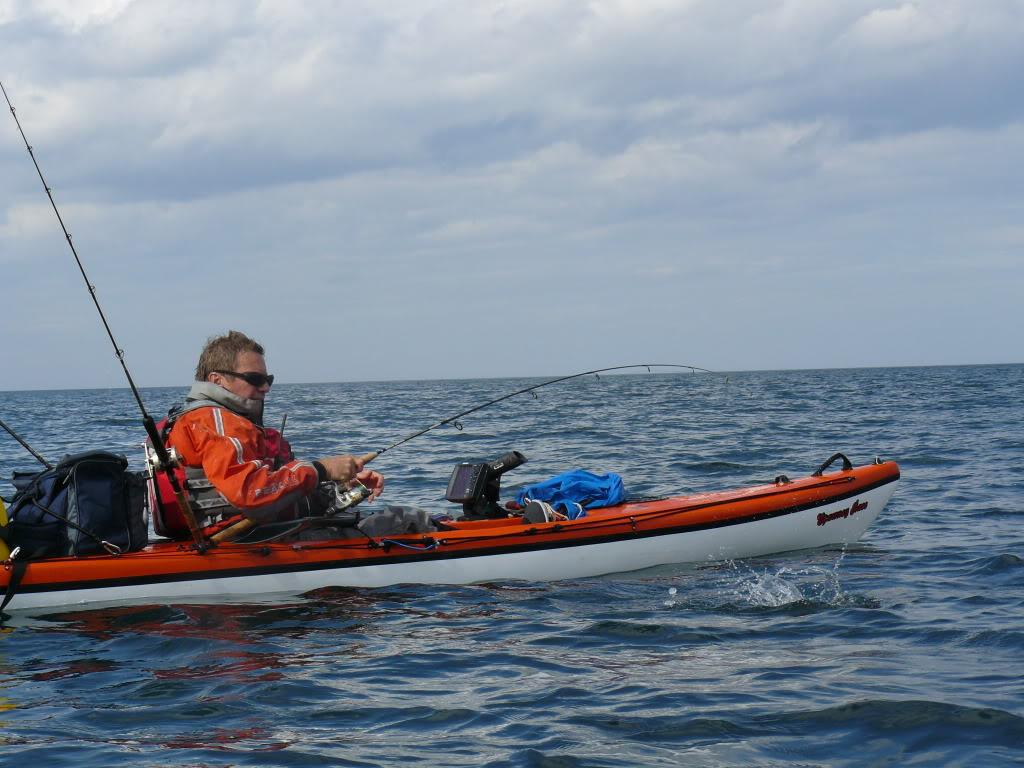face: (222, 354, 271, 412)
